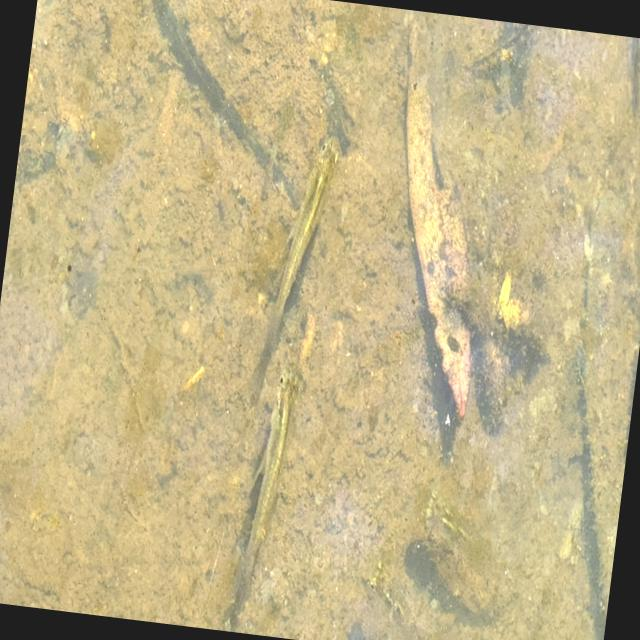Sivrisinek Baligi: (218, 362, 302, 624), (256, 132, 344, 358)
